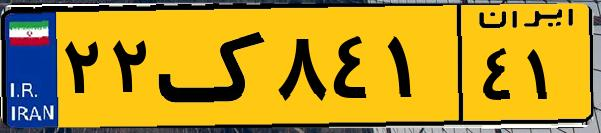1: (385, 28, 445, 110), (525, 38, 570, 115)
2: (57, 26, 110, 100), (110, 28, 158, 98)
4: (330, 28, 385, 110), (475, 38, 525, 113)
8: (270, 28, 330, 110)
ک: (158, 12, 270, 120)
